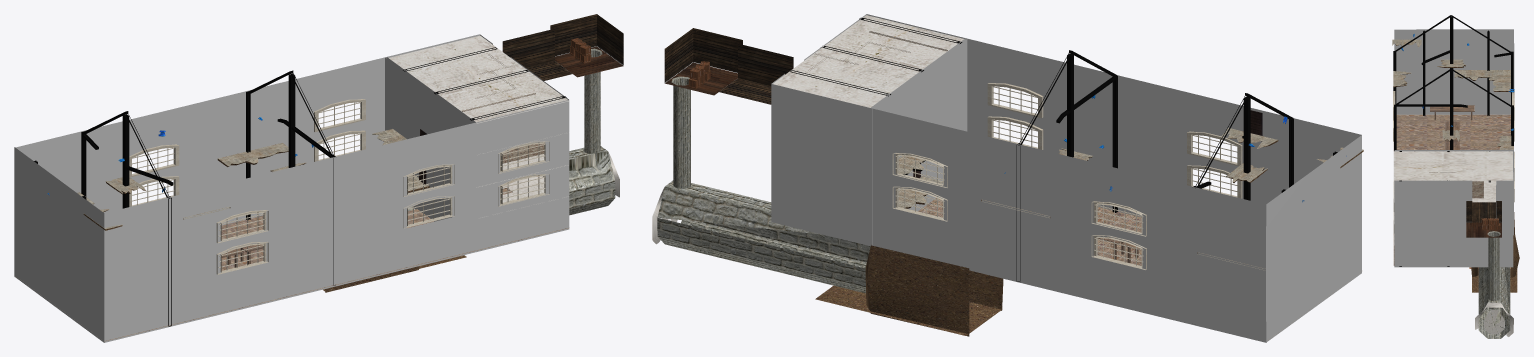
Rendered from hus02_export.obj.
The picture shows the model from 3 angles, left to right: view 1: azimuth 30°, elevation 25°; view 2: azimuth 150°, elevation 25°; view 3: azimuth 270°, elevation 25°; orthographic projection. The views are drawn at different scales.
Parts seen in each view (by area): view 1: pPlane44 polySurface1; view 2: pPlane44 polySurface1; view 3: pPlane44 polySurface1.
Boxes of the visible parts, x1,y1,x2,y2 form: pPlane44 polySurface1: (14, 14, 623, 342); pPlane44 polySurface1: (652, 14, 1363, 342); pPlane44 polySurface1: (1392, 15, 1519, 338).
Bounding box in the file's own units: 372 × 152 × 107.
